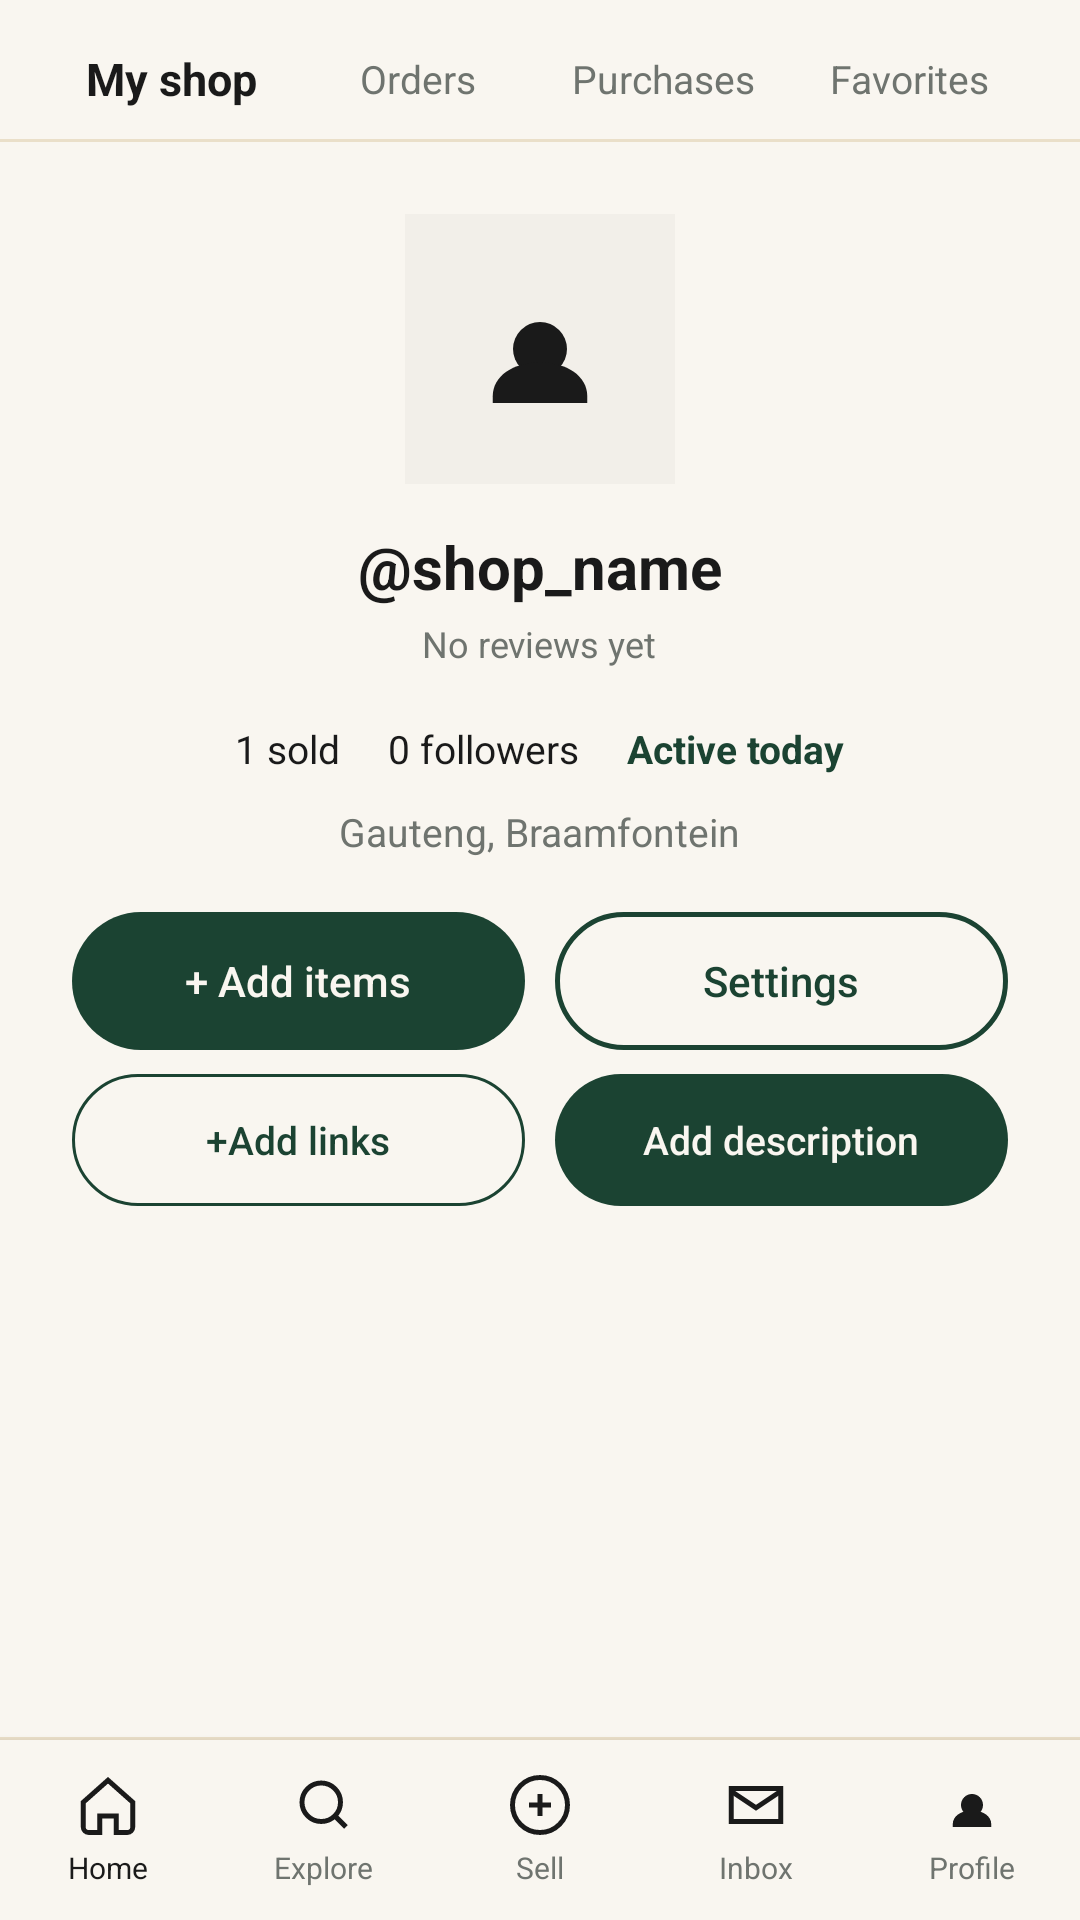

Where to tap for icons on this 1080x1920 app screen, as (x,y):
Avatar: (540,362)
